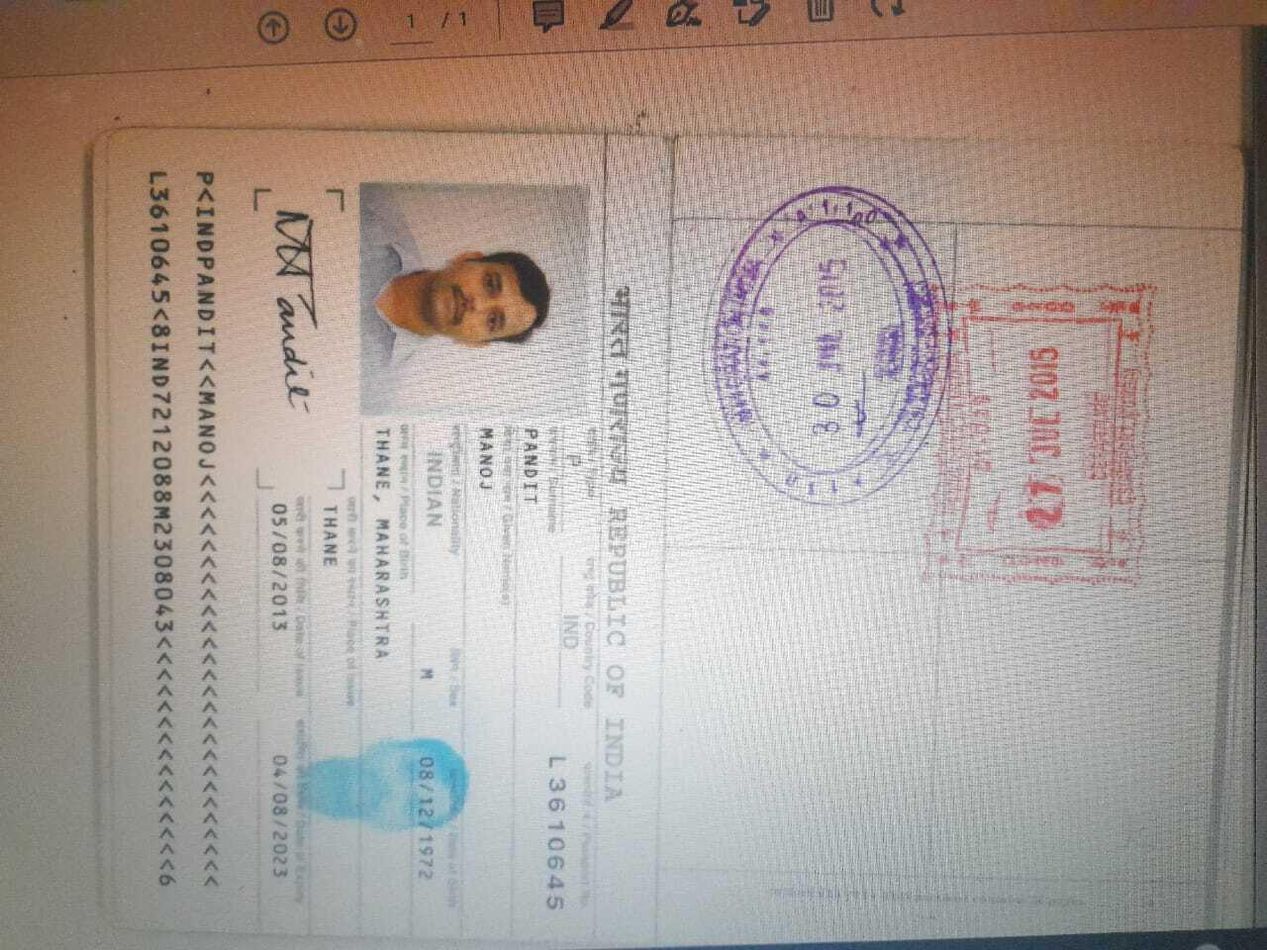DOB: (409, 743, 444, 888)
Surname: (513, 423, 553, 516)
country_code: (558, 601, 586, 661)
date_of_expiry: (264, 742, 295, 886)
date_of_issue: (263, 489, 294, 638)
details: (131, 157, 231, 905)
name: (472, 417, 505, 532)
nationality: (420, 441, 448, 535)
passport_no: (536, 742, 580, 929)
photo: (355, 178, 594, 416)
place_of_birth: (363, 424, 404, 676)
place_of_issue: (315, 500, 345, 575)
sex: (411, 652, 443, 694)
sign: (267, 199, 331, 420)
type: (561, 440, 587, 487)
